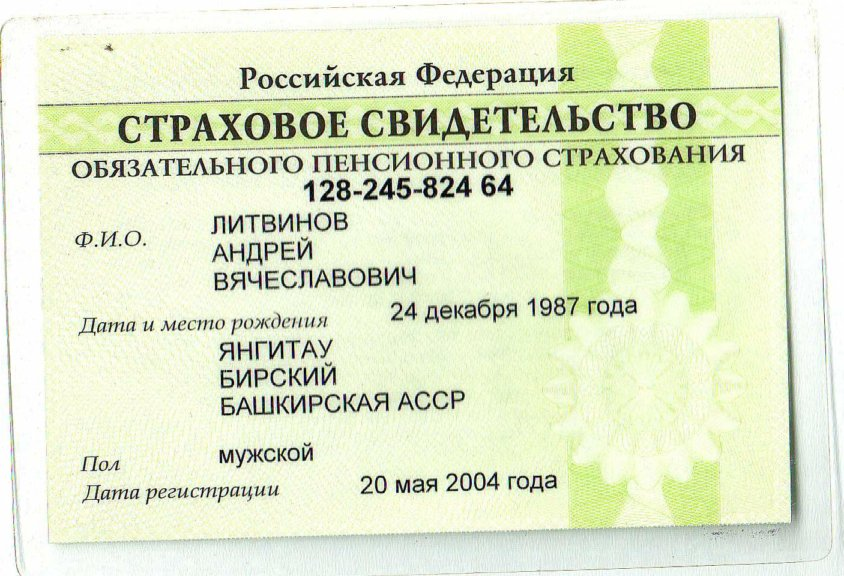text: (216, 334, 471, 418), (383, 295, 646, 327), (298, 173, 521, 205), (355, 469, 564, 497), (205, 266, 426, 292), (202, 208, 349, 235), (202, 236, 325, 267), (211, 440, 319, 469)
